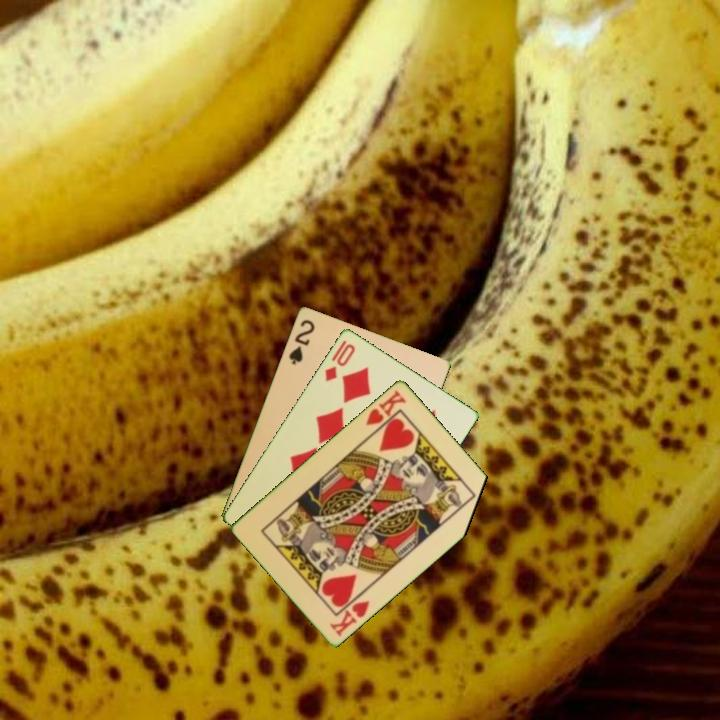10d: (321, 336, 358, 384)
2s: (285, 316, 318, 367)
Kh: (362, 386, 409, 436), (326, 589, 373, 639)
